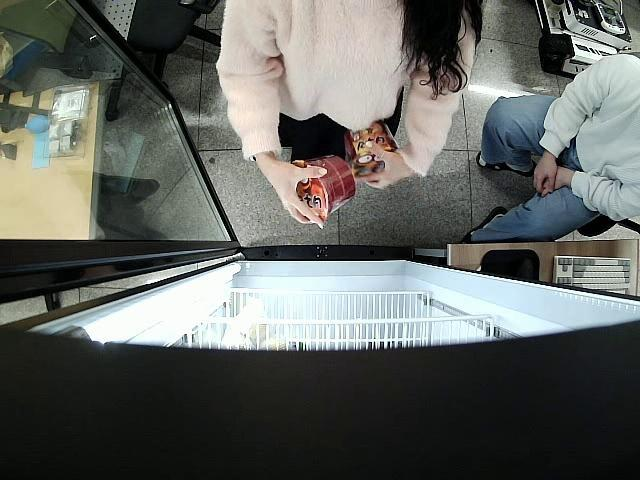05_nuguri_L: (294, 156, 357, 220), (346, 123, 400, 180)
